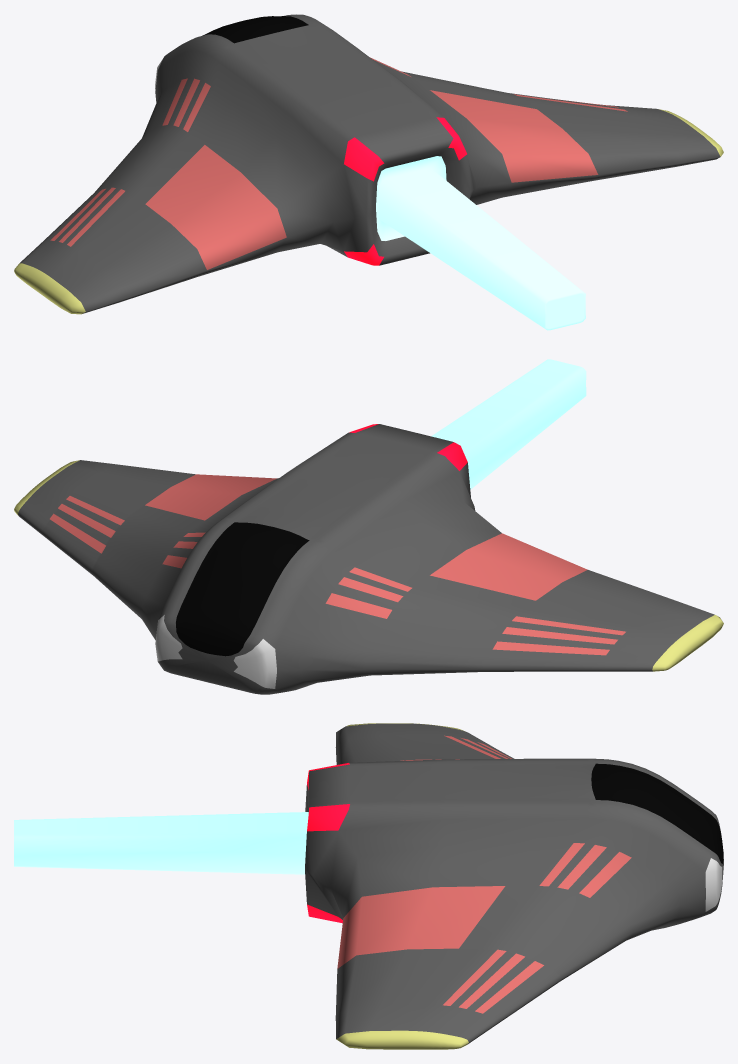
File: Spaceship2 1.fbx
3 renders of one model, top to bottom at view 1: azimuth 30°, elevation 25°; view 2: azimuth 150°, elevation 25°; view 3: azimuth 270°, elevation 25°, orthographic.
Visible parts, largest first — view 1: Ship; view 2: Ship; view 3: Ship.
Boxes of the visible parts, x1,y1,x2,y2 form: Ship: [14, 14, 723, 330]; Ship: [14, 359, 723, 694]; Ship: [14, 723, 723, 1049].
Bounding box in the file's own units: 882 × 165 × 836.
